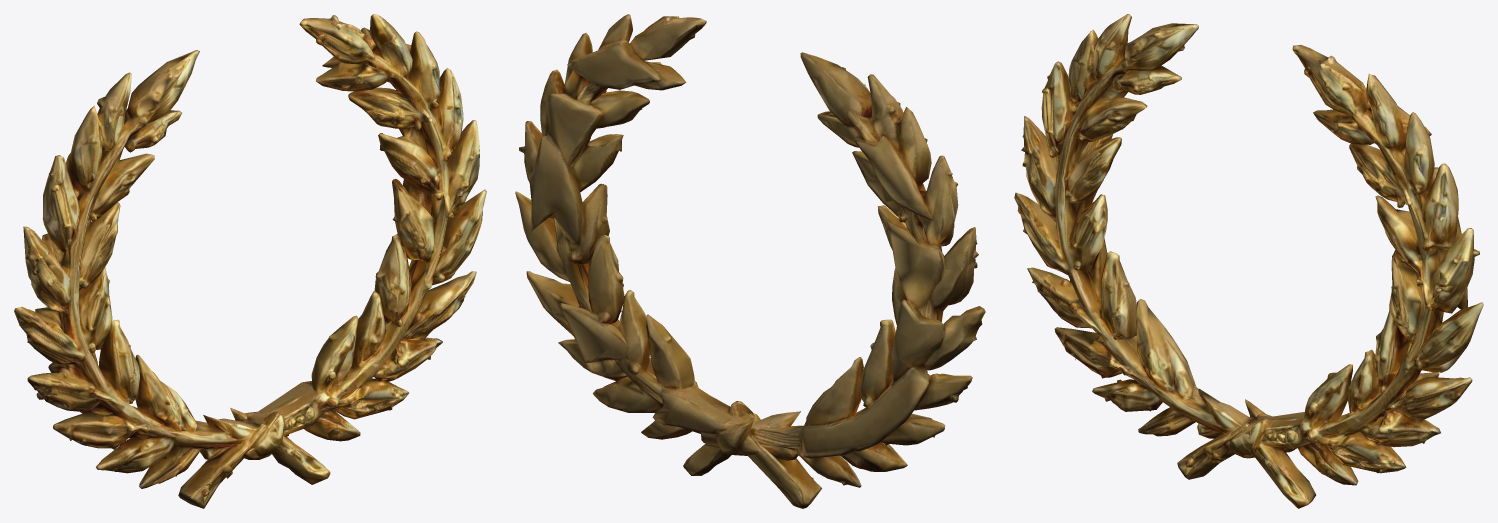
Rendered from trophy.glb.
3 views of the same model, side by side, from view 1: azimuth 30°, elevation 25°; view 2: azimuth 150°, elevation 25°; view 3: azimuth 330°, elevation 25° (orthographic).
Visible parts, largest first — view 1: tripo_node_5c6a7d32-8e66-408e-a6bc-14de67adfffe; view 2: tripo_node_5c6a7d32-8e66-408e-a6bc-14de67adfffe; view 3: tripo_node_5c6a7d32-8e66-408e-a6bc-14de67adfffe.
Boxes of the visible parts, x1,y1,x2,y2 form: tripo_node_5c6a7d32-8e66-408e-a6bc-14de67adfffe: [14, 14, 486, 508]; tripo_node_5c6a7d32-8e66-408e-a6bc-14de67adfffe: [515, 14, 985, 508]; tripo_node_5c6a7d32-8e66-408e-a6bc-14de67adfffe: [1014, 14, 1483, 508].
Size of the model in its own units: 0.9777 by 0.9181 by 0.102.
Materials: 1 (1 with a texture image).
